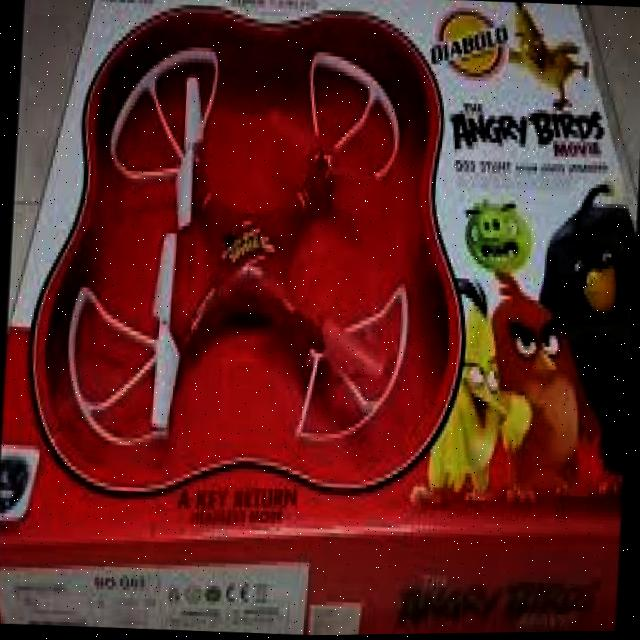drone: (58, 26, 441, 475)
